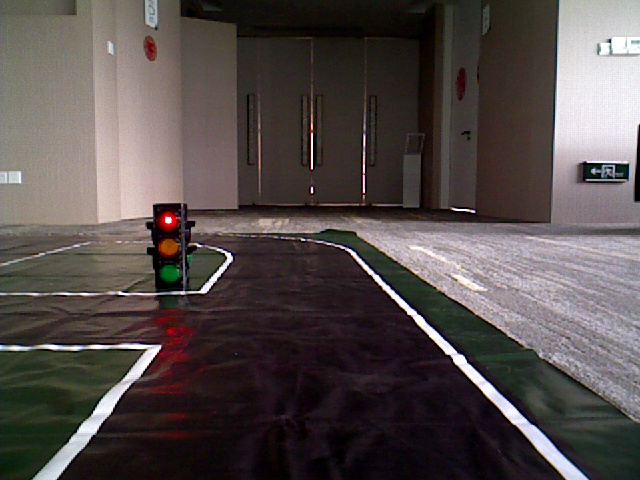red: (151, 204, 183, 288)
